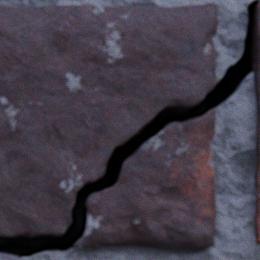brick: (253, 4, 259, 242)
broken_brick: (0, 4, 217, 236), (74, 109, 214, 248)
crack: (0, 0, 259, 258)
